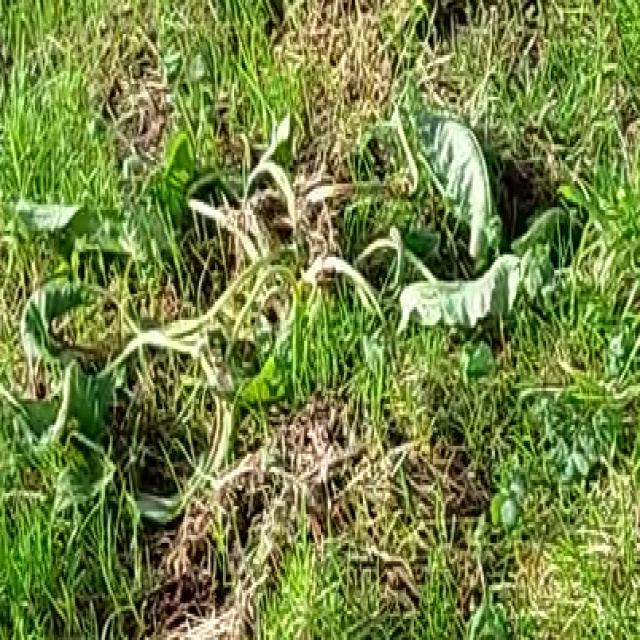organic waste: (10, 100, 546, 554)
